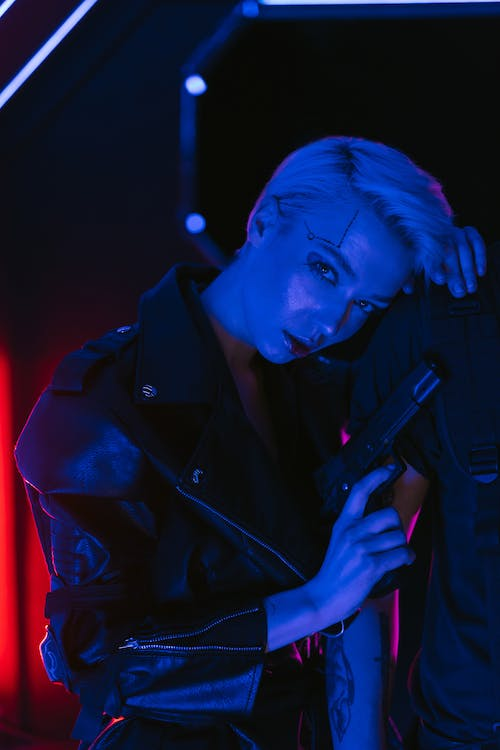gun: (312, 352, 448, 602)
